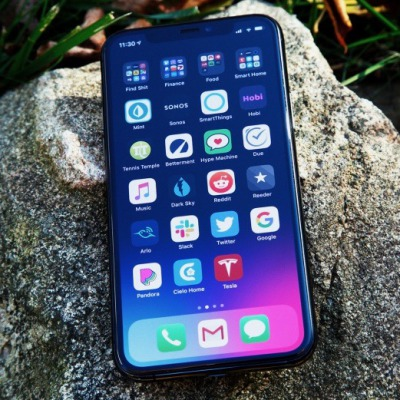iphone: (99, 13, 319, 383)
